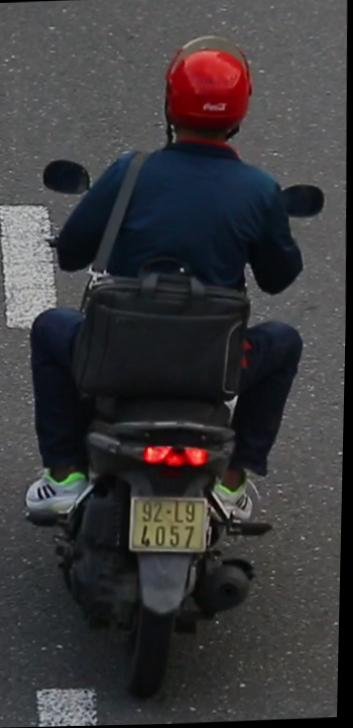LP: (128, 494, 215, 563)
helmet: (155, 38, 259, 158)
